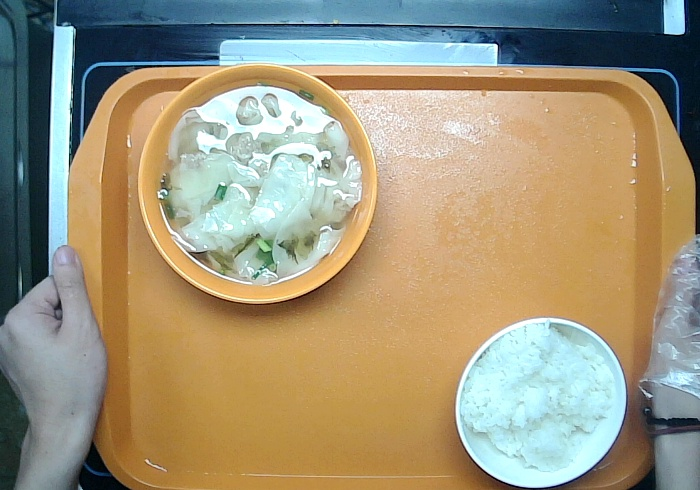NLDX-Fan_Wan: (451, 313, 630, 490)
NLDX-Hun_Tun_Wan: (136, 62, 377, 308)
